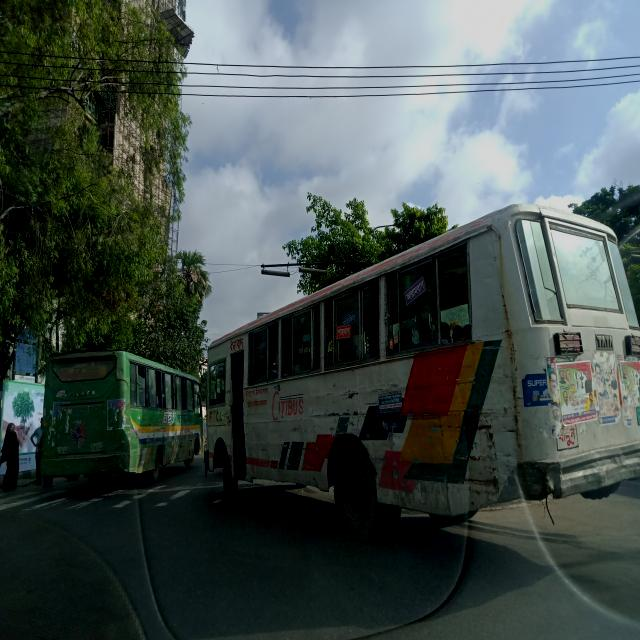bus: (207, 204, 640, 546), (39, 347, 205, 492)
